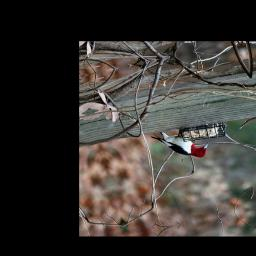Woodpecker: (146, 119, 215, 170)
